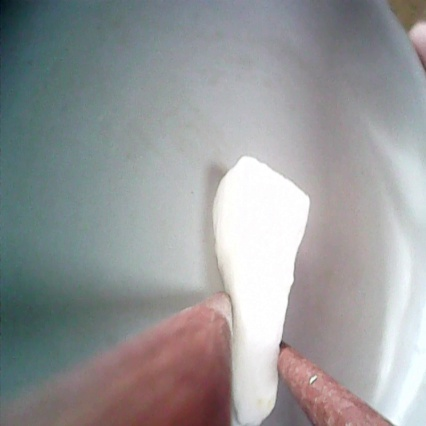white_chinese-yam: (203, 154, 322, 426)
